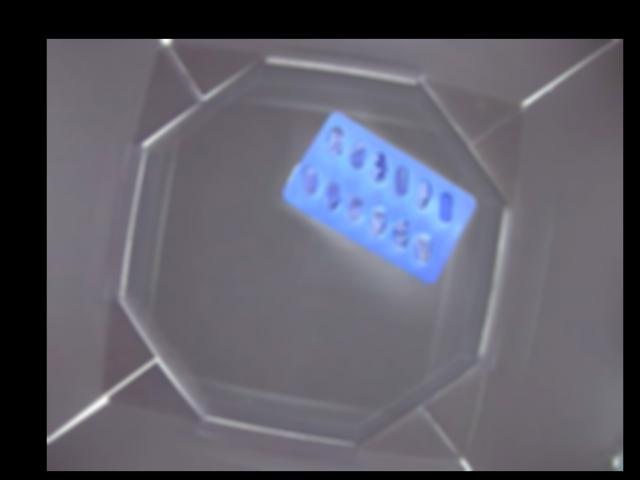Medicine: (280, 109, 475, 282)
